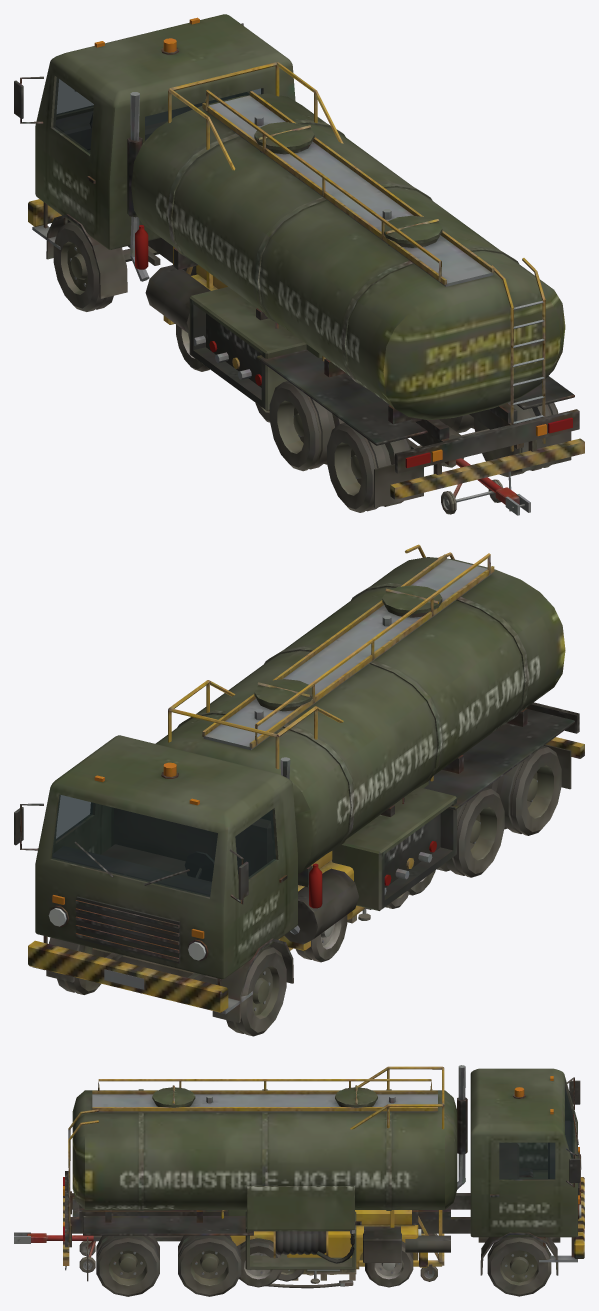
Rendered from base_ground_kit.glb.
The picture shows the model from 3 angles, top to bottom: view 1: azimuth 30°, elevation 25°; view 2: azimuth 150°, elevation 25°; view 3: azimuth 270°, elevation 25°; orthographic projection. The views are drawn at different scales.
Parts seen in each view (by area): view 1: gse_fuel_truck, gse_stairs, gse_tug_towbar, gse_tug; view 2: gse_fuel_truck, gse_tug, gse_stairs; view 3: gse_fuel_truck, gse_tug, gse_stairs, gse_tug_towbar, gse_generator, gse_crate_stack.
Part boxes in pixels (x1,y1,x2,y2): gse_fuel_truck: [14, 14, 584, 512]; gse_stairs: [168, 62, 343, 361]; gse_tug_towbar: [441, 458, 530, 515]; gse_tug: [163, 265, 278, 410]; gse_fuel_truck: [14, 544, 584, 1036]; gse_tug: [280, 797, 435, 962]; gse_stairs: [168, 680, 433, 950]; gse_fuel_truck: [63, 1065, 584, 1296]; gse_tug: [230, 1210, 432, 1287]; gse_stairs: [221, 1066, 444, 1283]; gse_tug_towbar: [14, 1232, 95, 1272]; gse_generator: [228, 1210, 353, 1288]; gse_crate_stack: [292, 1269, 356, 1280].
Size of the model in its own units: 2.88 by 3.02 by 8.76.
Materials: 2 (1 with a texture image).
